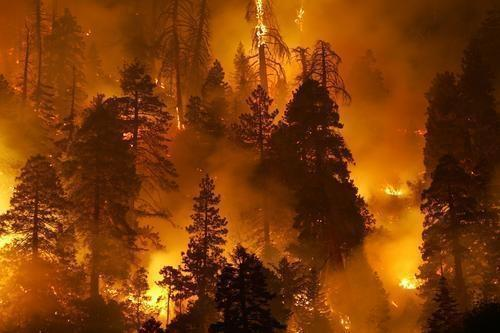fire: (282, 265, 353, 331), (127, 254, 187, 321), (346, 158, 422, 201), (151, 62, 194, 135), (382, 241, 424, 293), (250, 0, 272, 51), (290, 2, 307, 29)
